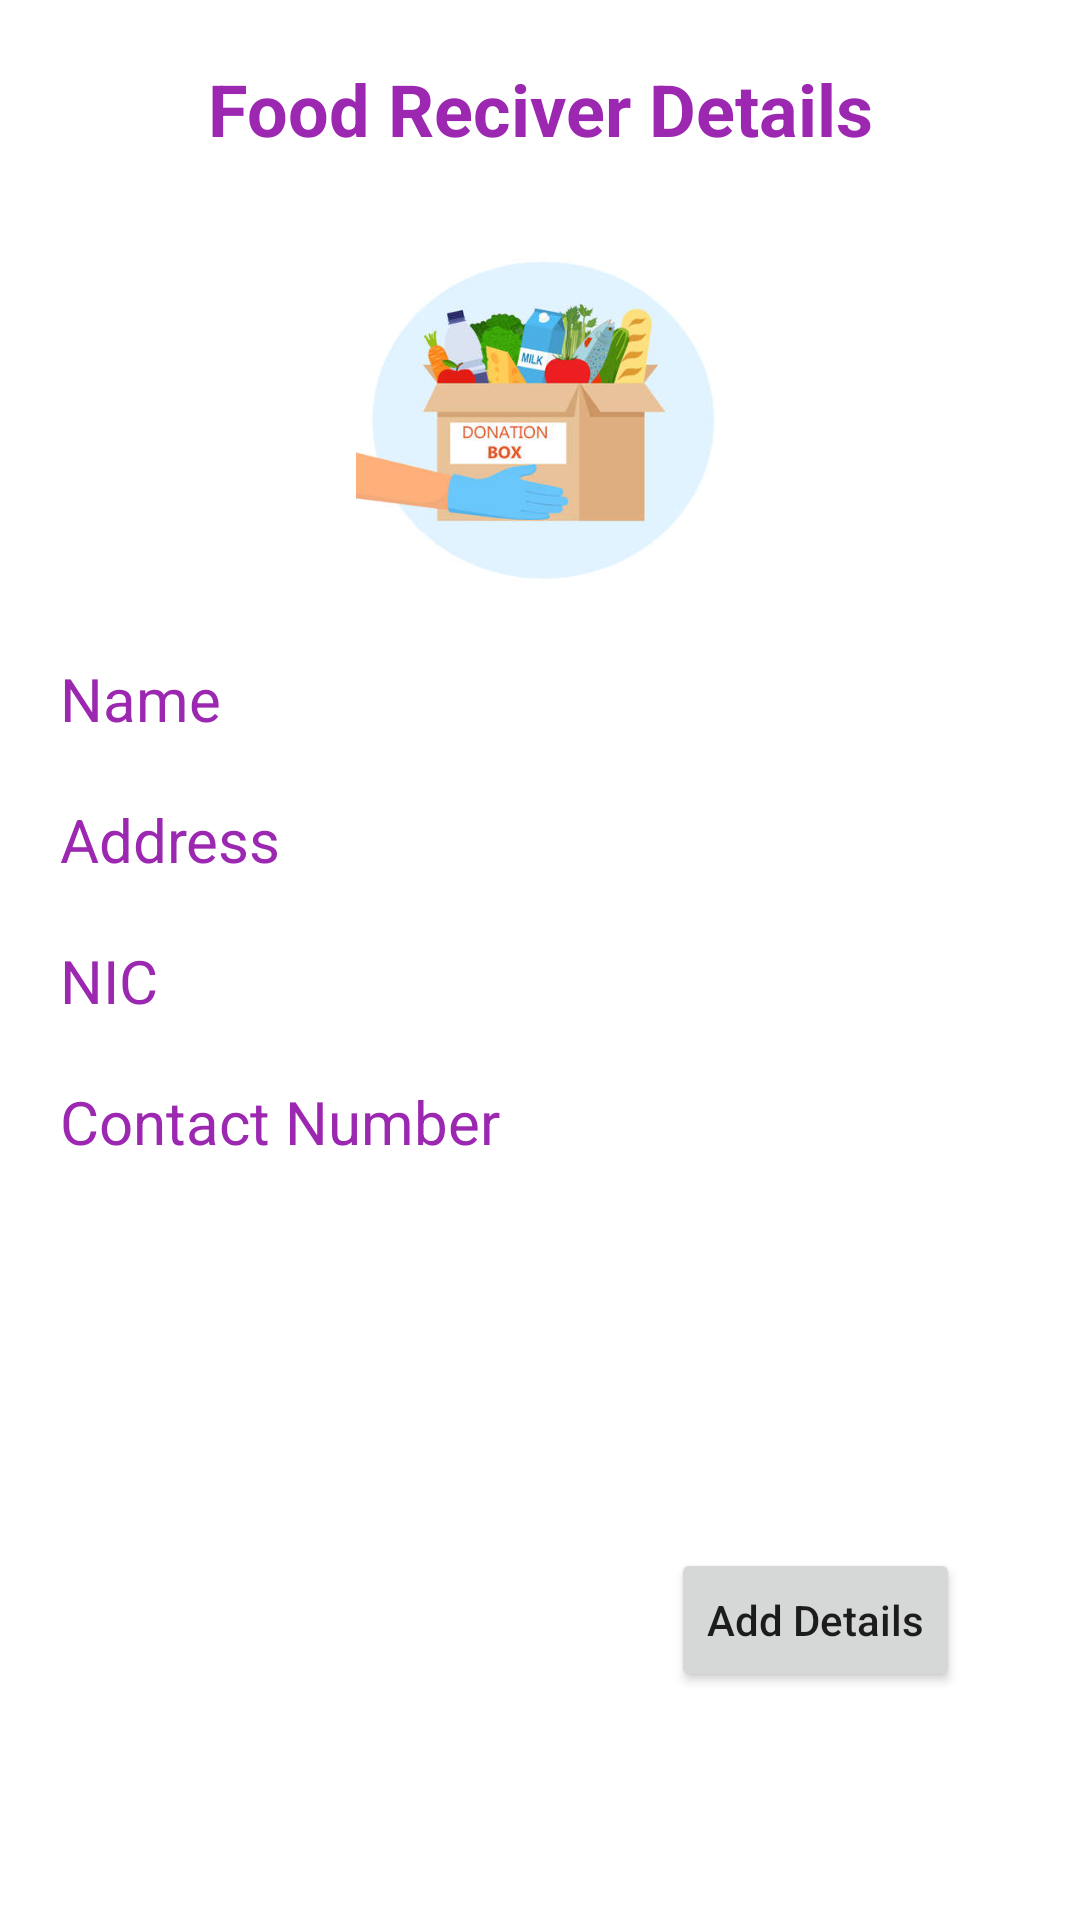

Icon click points for this 1080×1920 phone screenshot, format (x=x, y=y):
donation box food: (x=534, y=420)
